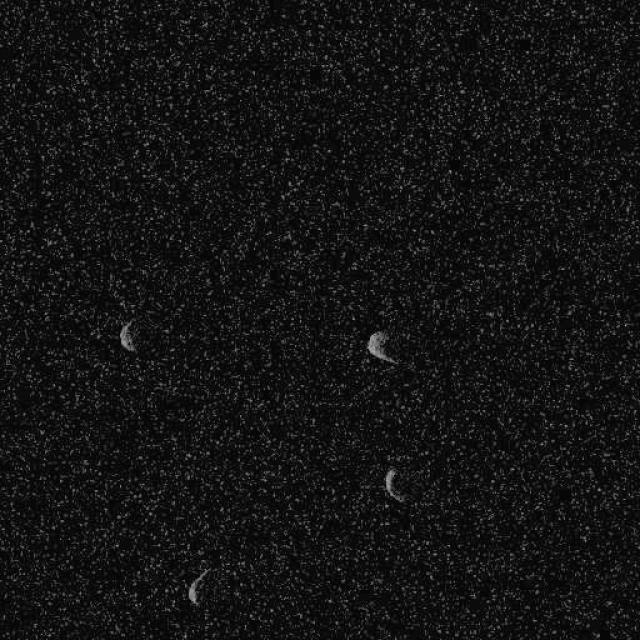D2: (365, 328, 397, 364), (186, 566, 210, 606), (382, 467, 407, 502), (118, 318, 138, 352)
